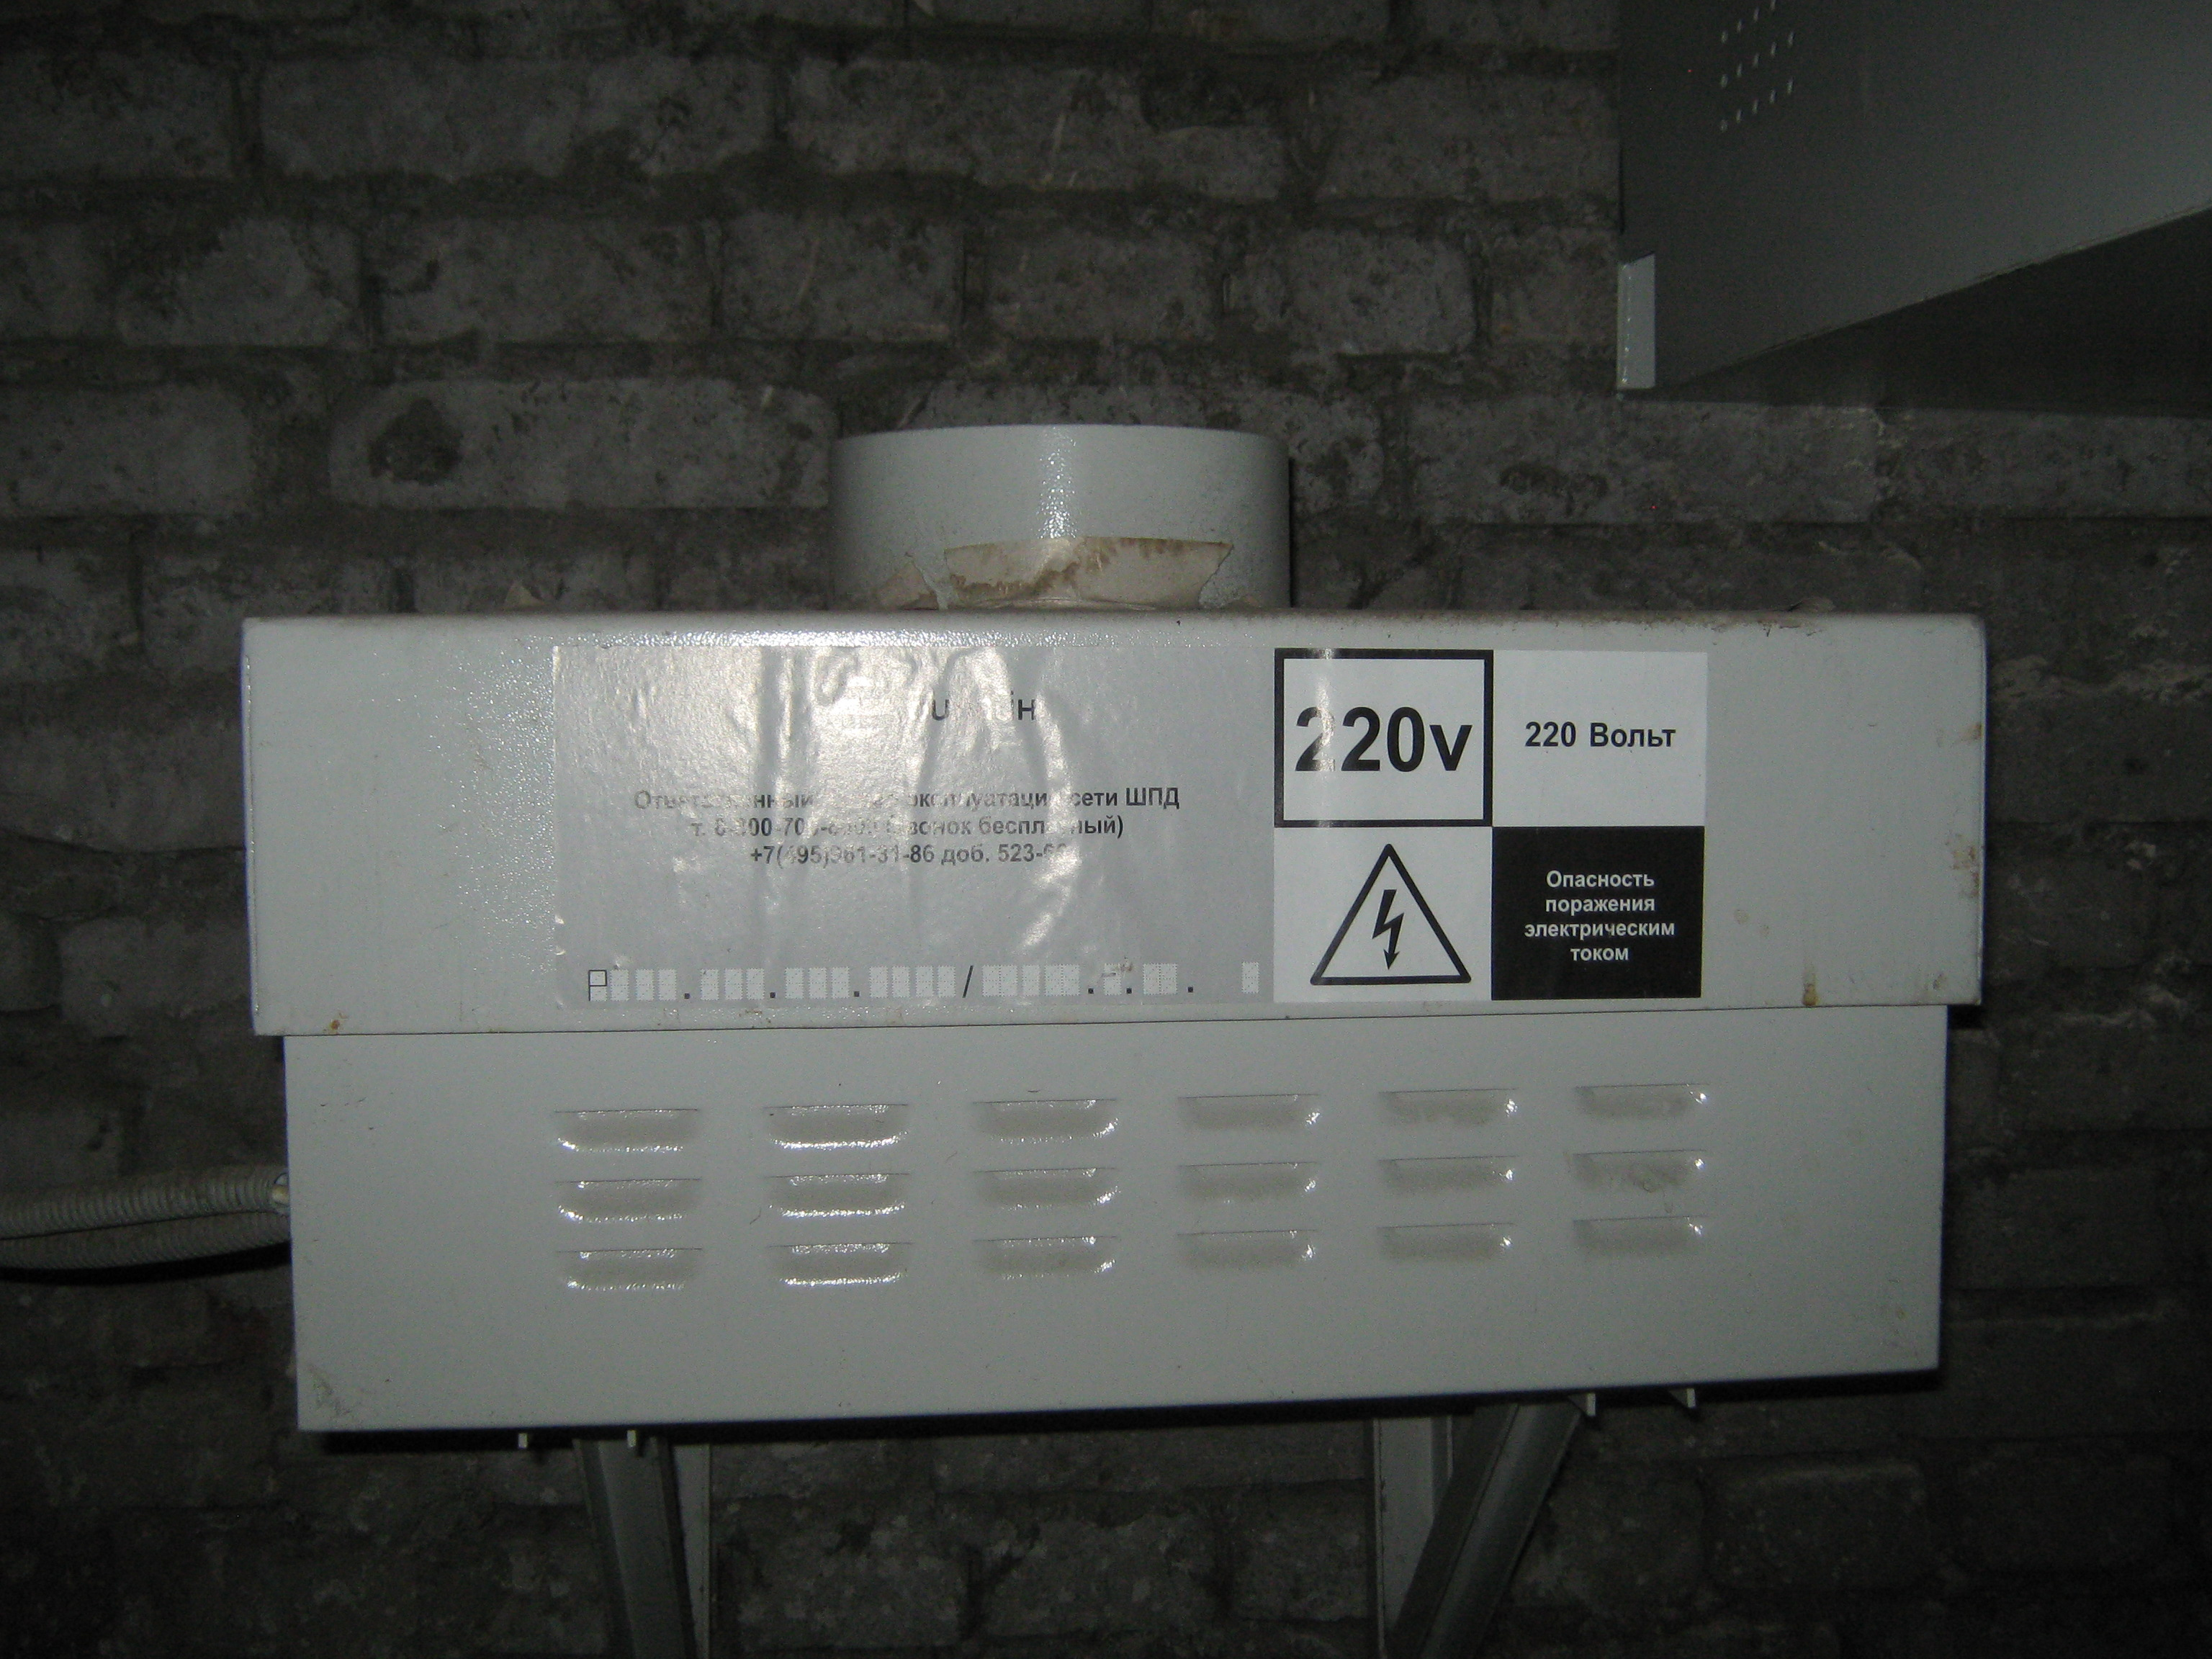shta-ps: (202, 387, 2017, 1474)
